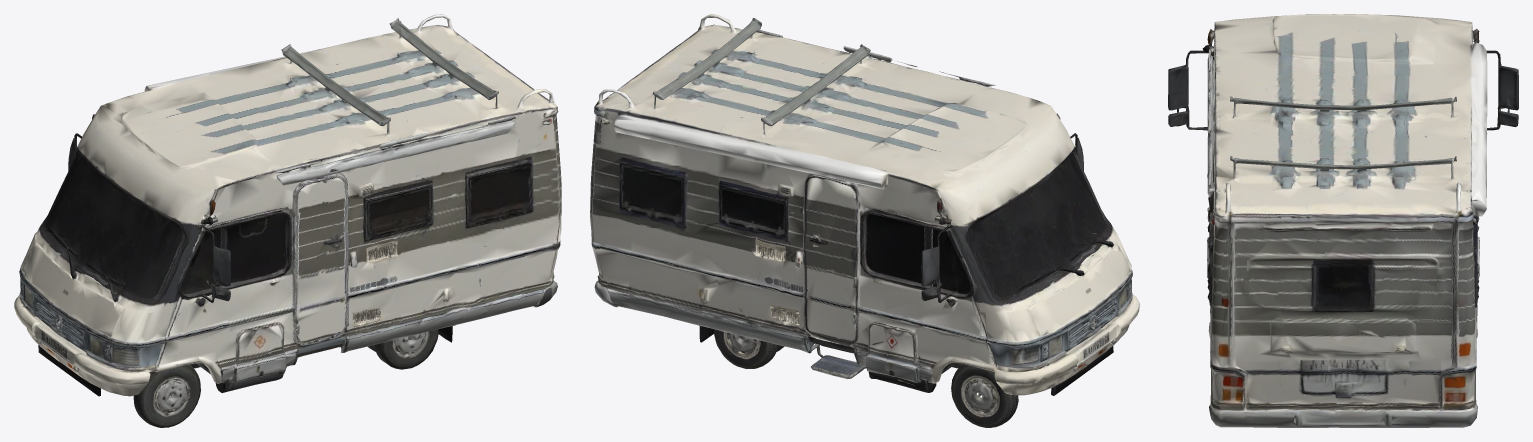
The model's file is motorhome-SHRINK.glb.
The picture shows the model from 3 angles, left to right: view 1: azimuth 30°, elevation 25°; view 2: azimuth 150°, elevation 25°; view 3: azimuth 270°, elevation 25°; orthographic projection. The views are drawn at different scales.
Visible parts, largest first — view 1: object 1, Wheel_FL, Wheel_RL; view 2: object 1, Wheel_FR, Wheel_RR; view 3: object 1.
Part boxes in pixels (x1,y1,x2,y2): object 1: (14, 14, 561, 396); Wheel_FL: (133, 364, 200, 427); Wheel_RL: (368, 329, 438, 369); object 1: (590, 14, 1139, 395); Wheel_FR: (951, 364, 1018, 427); Wheel_RR: (714, 329, 784, 368); object 1: (1168, 14, 1518, 427).
Bounding box in the file's own units: 1.9 × 1.03 × 1.12.
Materials: 1 (1 with a texture image).
